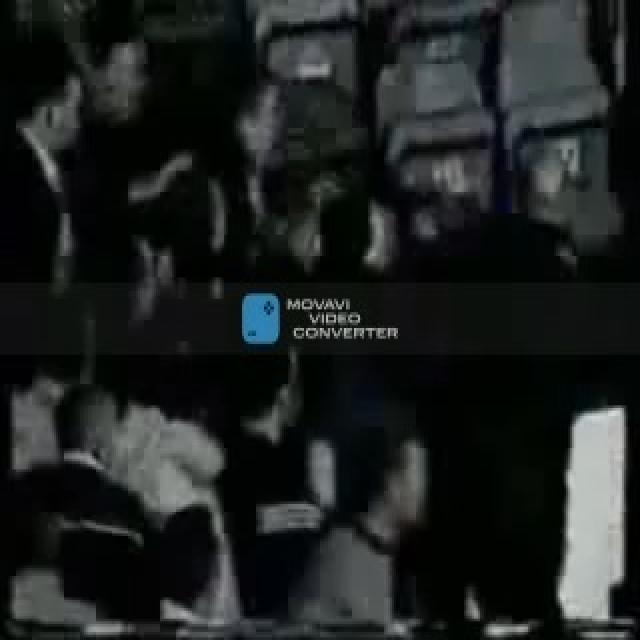non-voilence: (0, 0, 638, 637), (0, 344, 638, 637), (0, 0, 638, 288)
